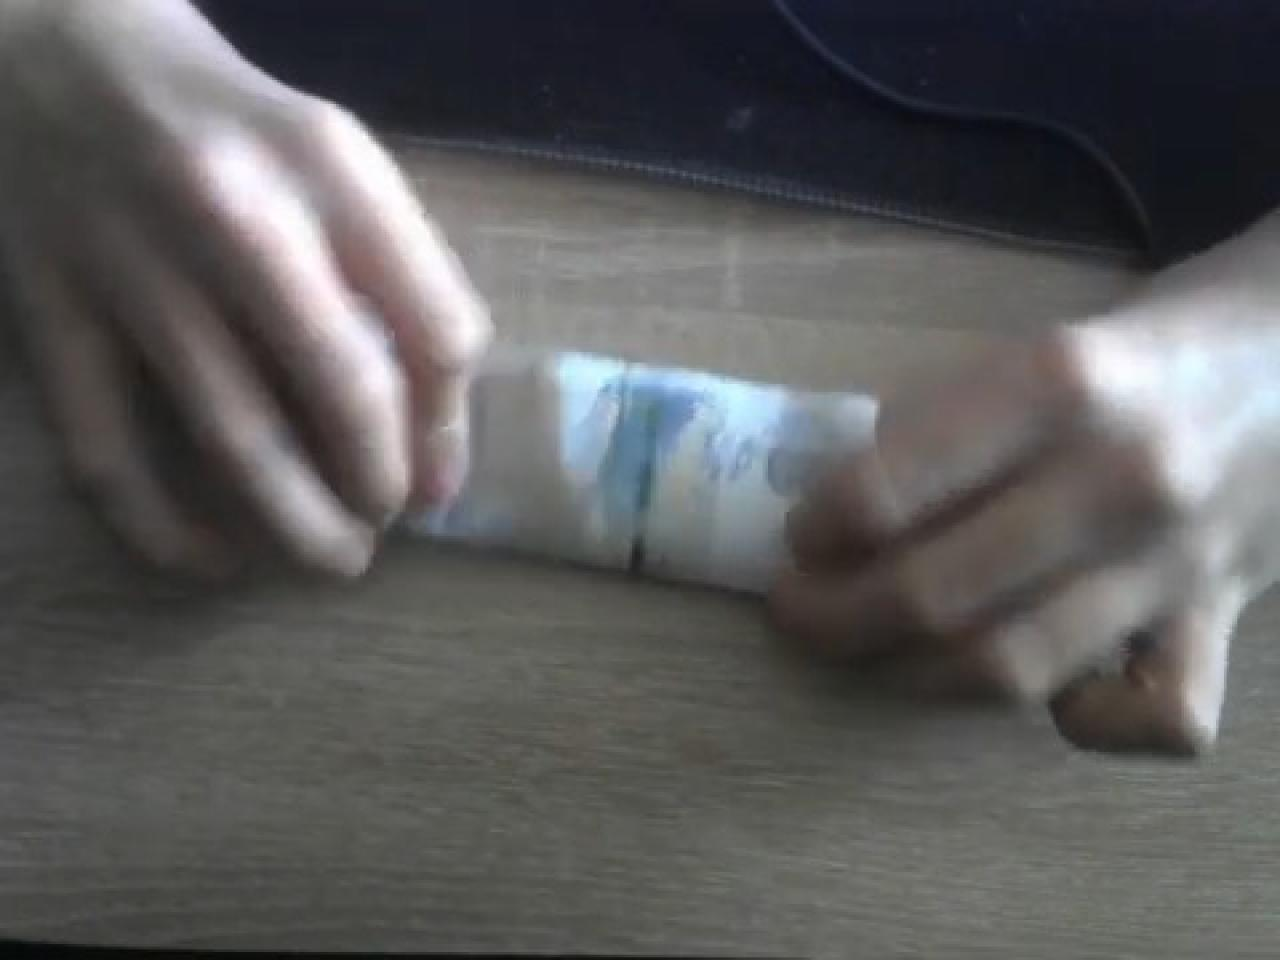20leva: (429, 349, 877, 595)
